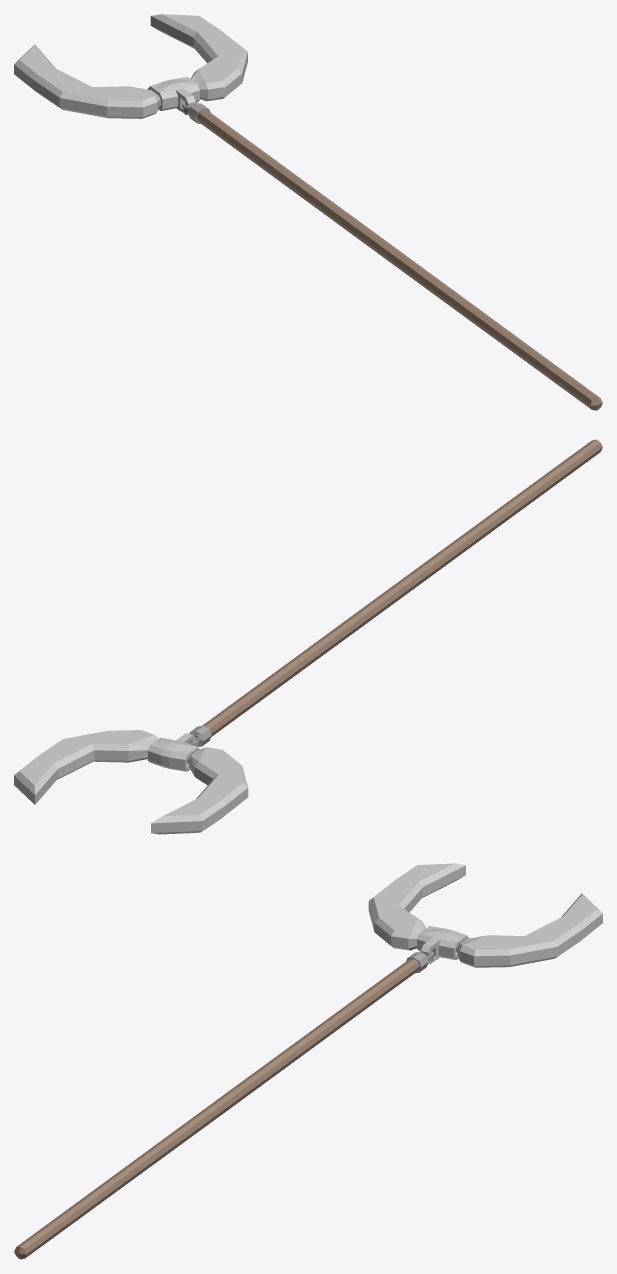
File: Hook_Model.fbx
3 views of the same model, one above another, from view 1: azimuth 30°, elevation 25°; view 2: azimuth 150°, elevation 25°; view 3: azimuth 330°, elevation 25° (orthographic).
Visible parts, largest first — view 1: MiddleHook; view 2: MiddleHook; view 3: MiddleHook.
Part boxes in pixels (bbox=[...]): MiddleHook: bbox=[14, 14, 602, 410]; MiddleHook: bbox=[14, 439, 602, 834]; MiddleHook: bbox=[14, 863, 602, 1259].
Size of the model in its own units: 7.23 by 0.7735 by 33.1.
